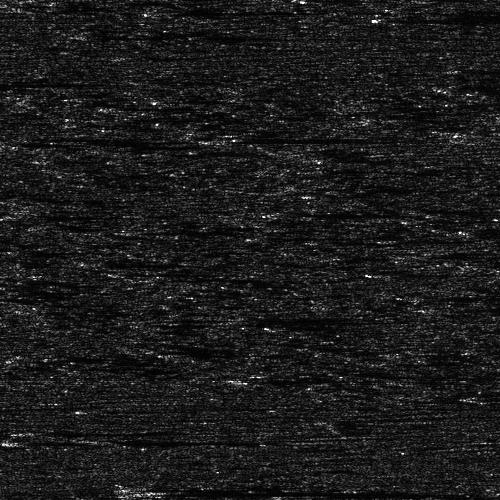rock: (95, 482, 168, 499), (410, 494, 493, 500), (0, 439, 22, 444)
shadow: (132, 482, 500, 499), (94, 439, 309, 442), (452, 494, 500, 500), (2, 439, 54, 444)
